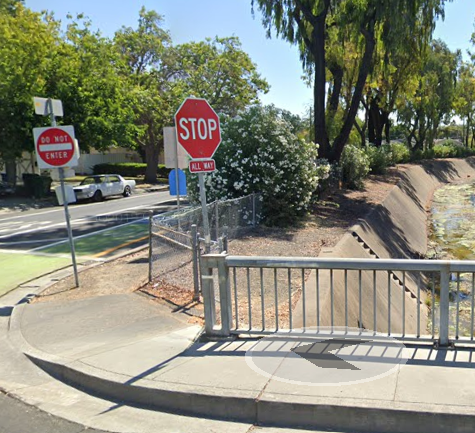stop_sign: (175, 98, 222, 159)
